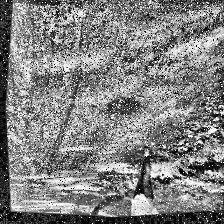pothole: (104, 98, 140, 120), (4, 104, 26, 122)
